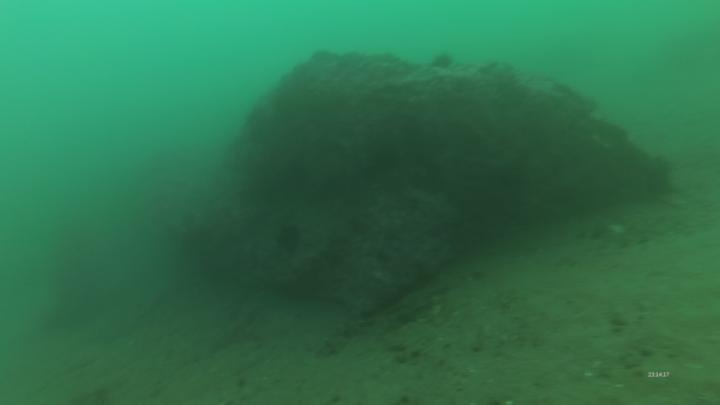holothurian: (276, 219, 305, 254), (426, 51, 458, 74)
